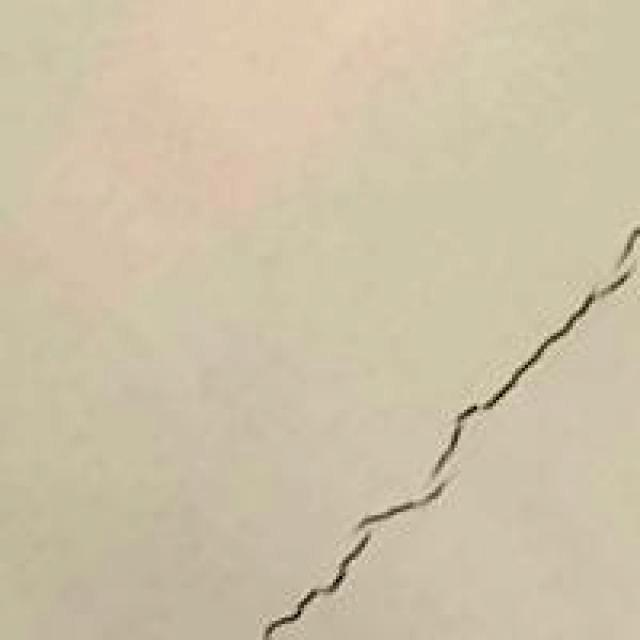crack: (244, 196, 640, 640)
